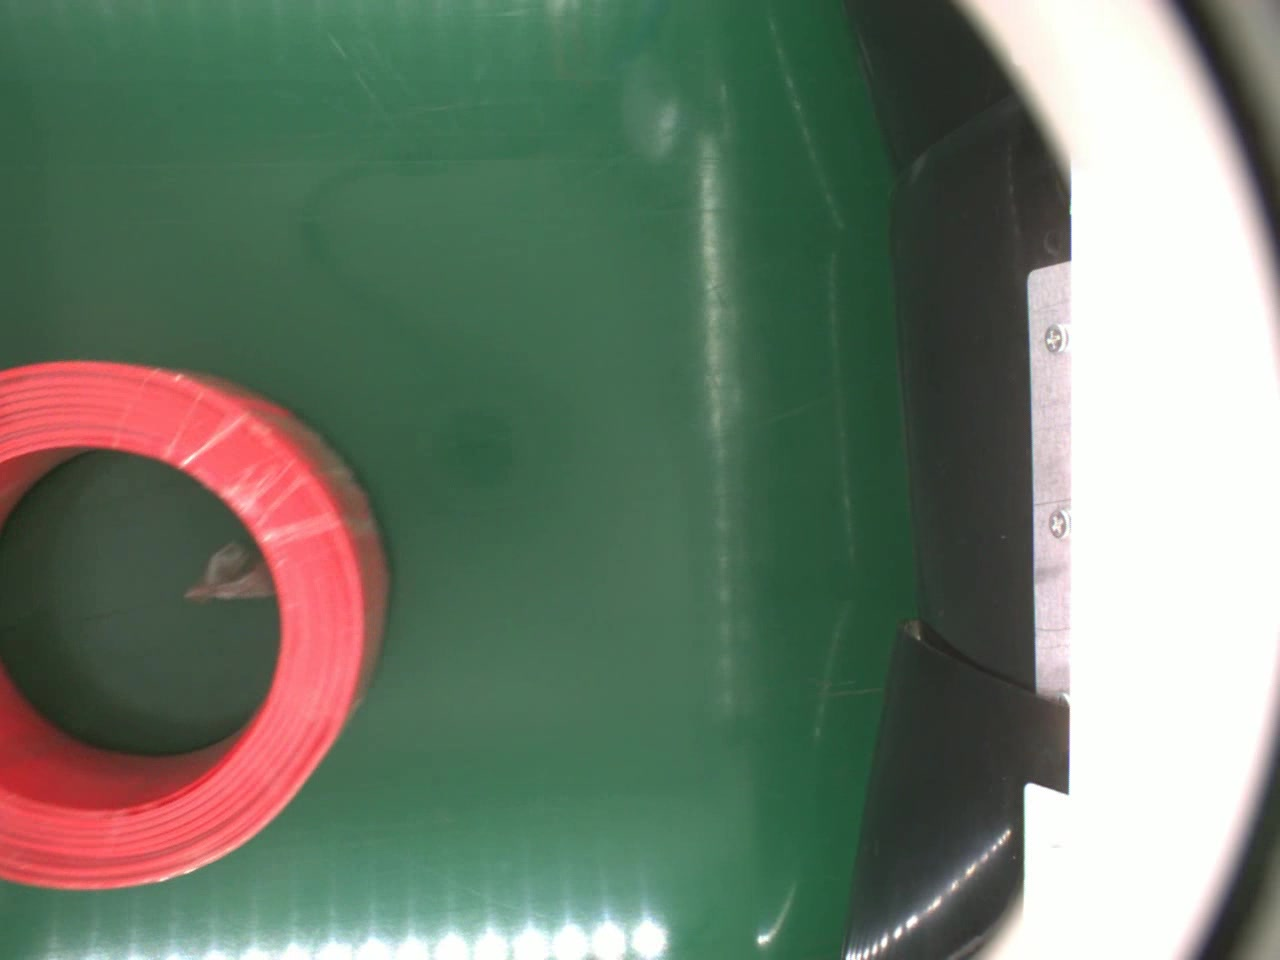red: (0, 353, 395, 891)
